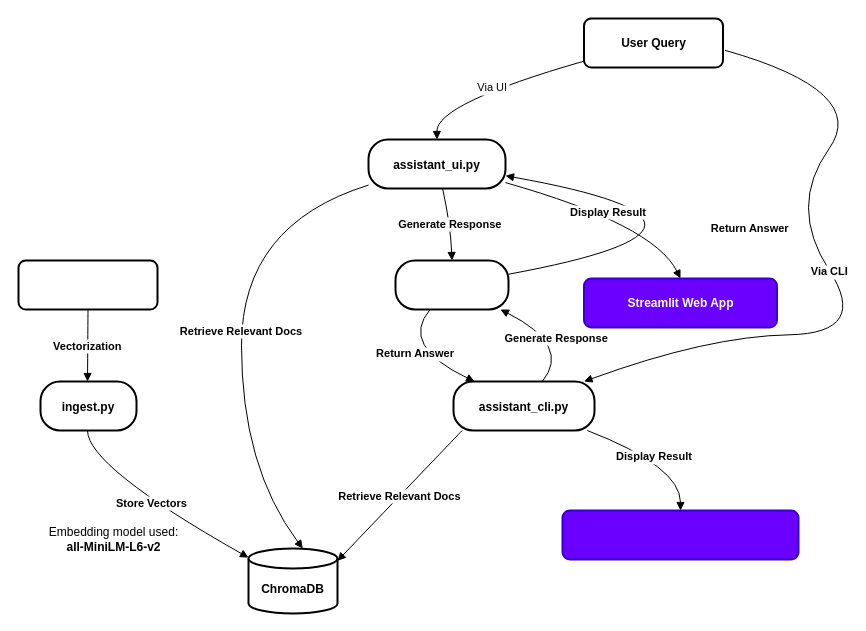
This 866x631 diagram has some shape labels left out. The centre of each missing label's shape, as x and y in pixels:
Command Line Interface: (x=680, y=534)
Documents: (x=87, y=284)
Ollama LLM: (x=451, y=284)
